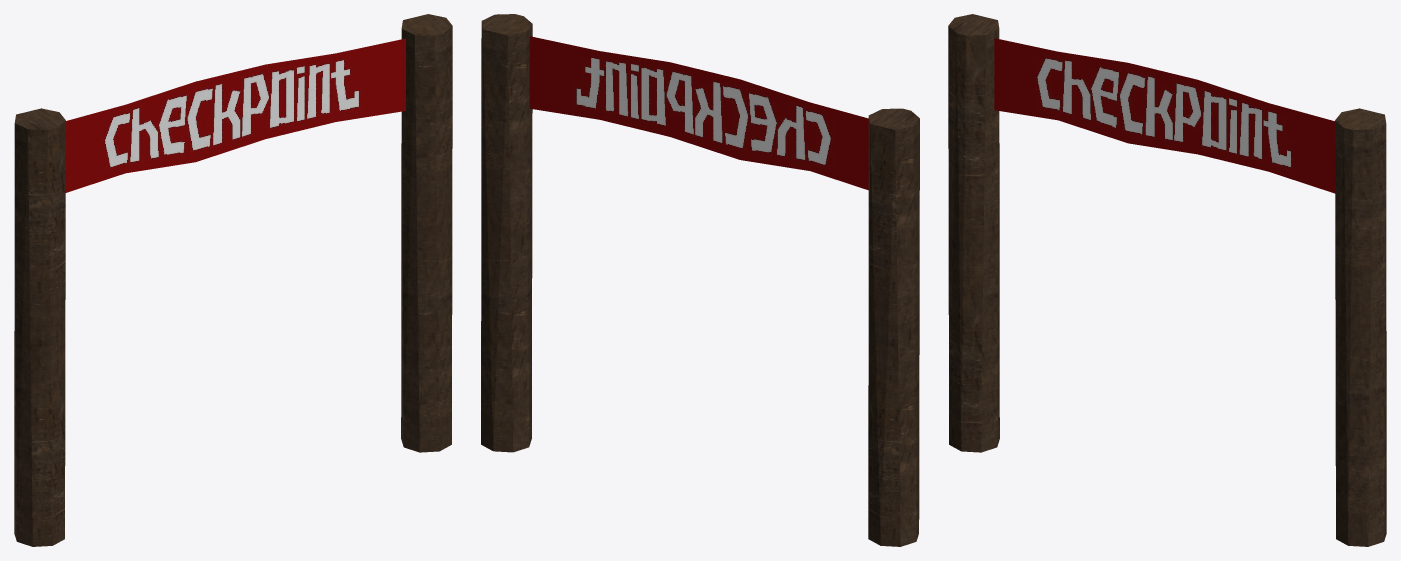
File: checkpoint.glb
3 renders of one model, left to right at view 1: azimuth 30°, elevation 25°; view 2: azimuth 150°, elevation 25°; view 3: azimuth 330°, elevation 25°, orthographic.
Visible parts, largest first — view 1: Cylinder, Plane; view 2: Cylinder, Plane; view 3: Cylinder, Plane.
Boxes of the visible parts, left/top/right/bottom form: Cylinder: left=14, top=14, right=452, bottom=546; Plane: left=65, top=38, right=405, bottom=192; Cylinder: left=481, top=14, right=919, bottom=546; Plane: left=529, top=36, right=868, bottom=190; Cylinder: left=948, top=14, right=1386, bottom=546; Plane: left=994, top=38, right=1335, bottom=193.
Bounding box in the file's own units: 0.76 × 0.7017 × 0.08.
Materials: 2 (2 with a texture image).
